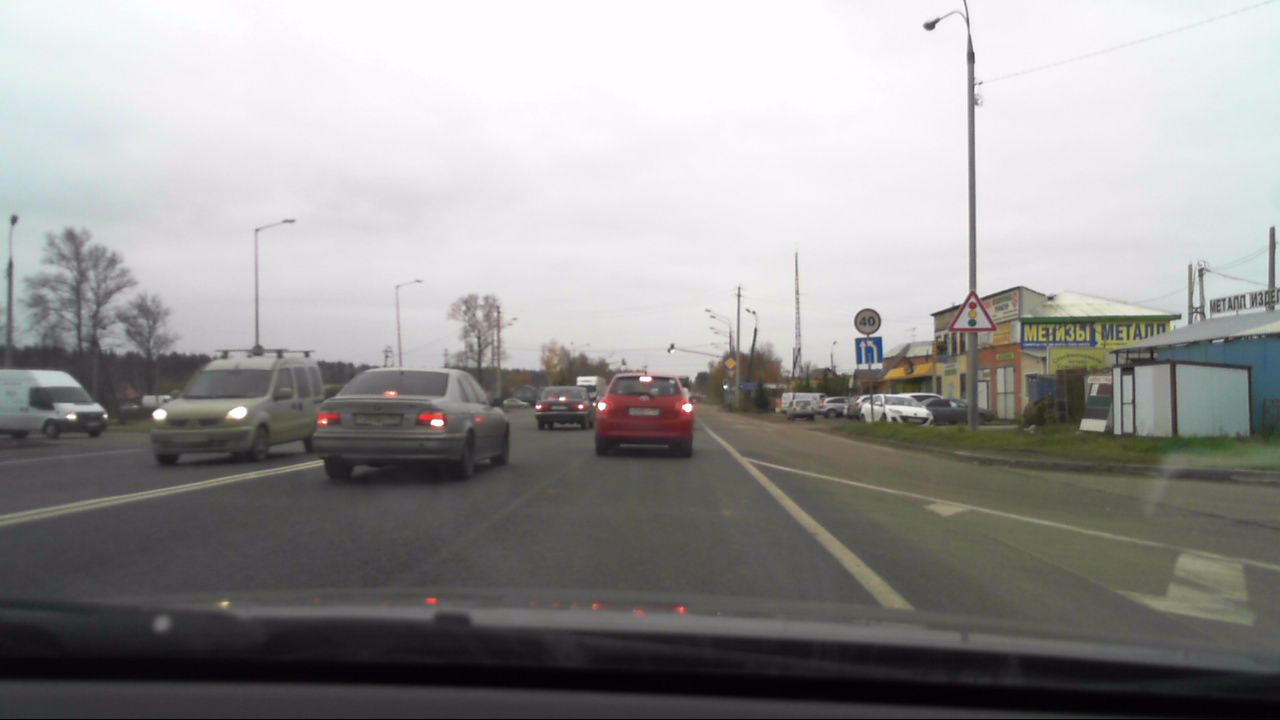speed_warning_40: (850, 306, 879, 335)
